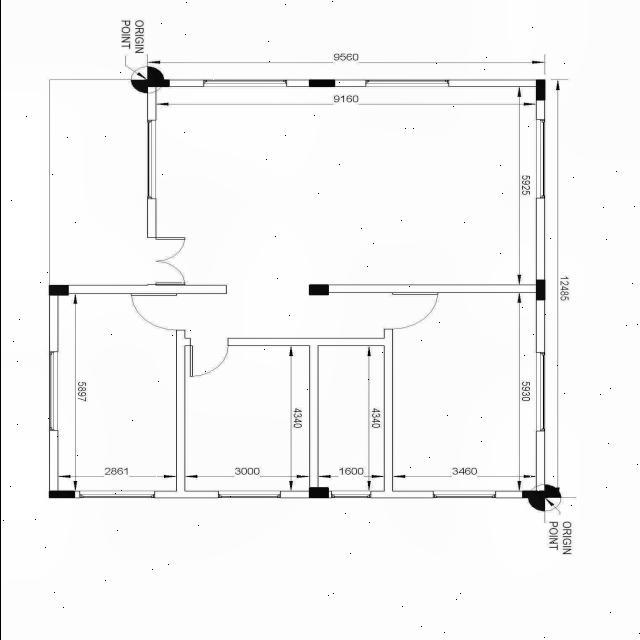Column: (308, 486, 328, 498), (308, 284, 328, 296), (48, 285, 68, 296), (534, 79, 544, 101), (308, 79, 334, 87), (534, 280, 544, 300), (48, 491, 74, 498), (146, 79, 168, 87), (521, 491, 544, 498)
Door: (383, 292, 438, 330), (130, 294, 184, 330), (184, 338, 228, 378)
Double-Door: (146, 238, 184, 286)
Window: (534, 119, 544, 199), (146, 120, 156, 200), (48, 352, 58, 431), (535, 352, 544, 432), (78, 491, 154, 498), (202, 80, 286, 86), (364, 80, 448, 86), (432, 491, 496, 498), (217, 491, 280, 498), (328, 491, 370, 498)
